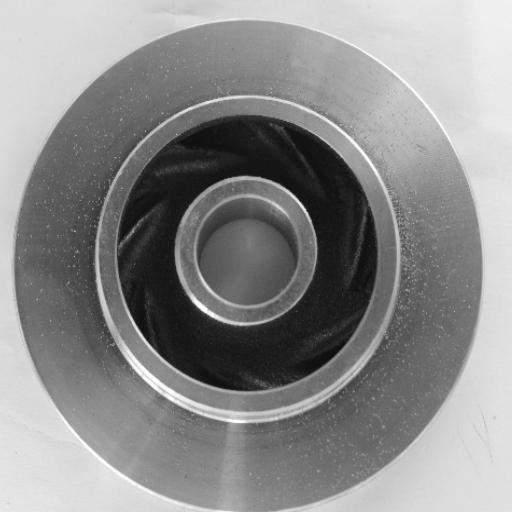polished_casting: (13, 20, 484, 512)
